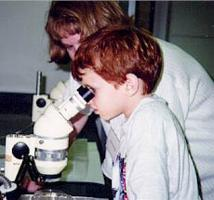person: (72, 25, 201, 200)
